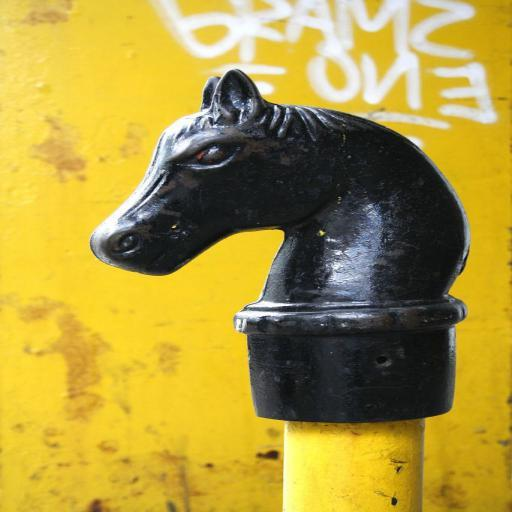Horse: (84, 64, 478, 310)
